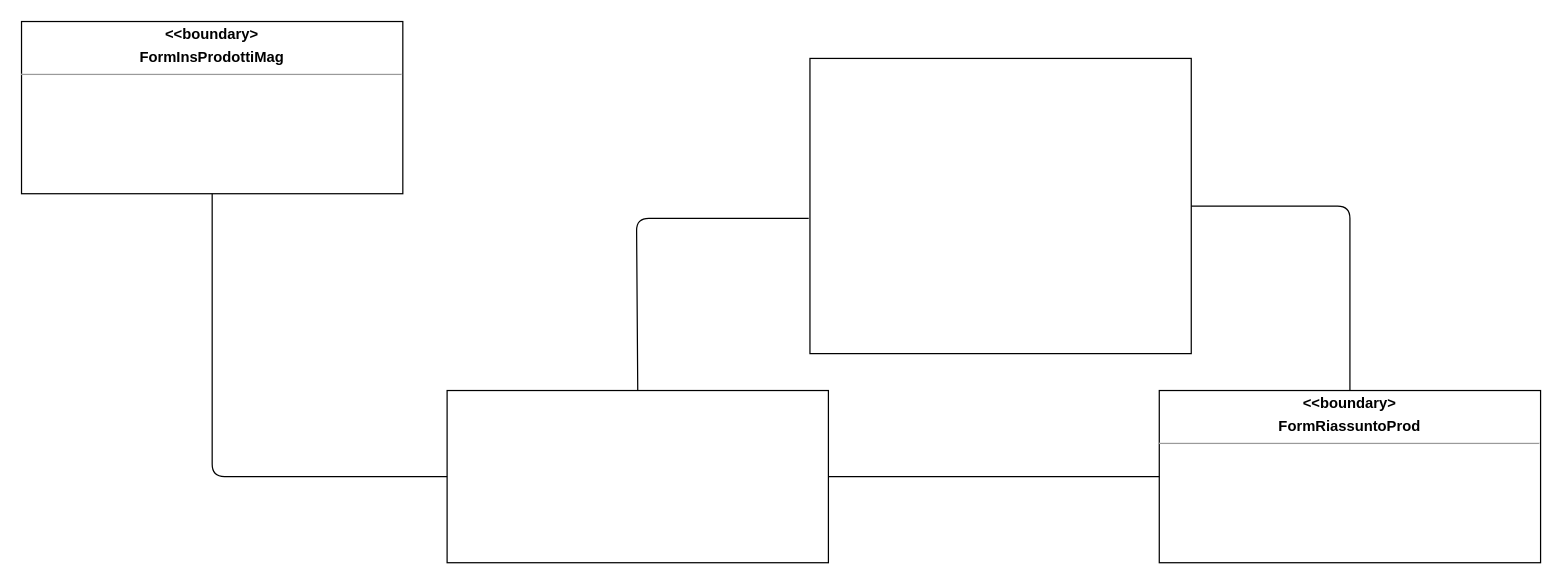
Some shapes in this 1562 by 584 pixel diagram are drawn without their labels. Each missing label, with the centre of its shape:
"<<control> MagazzinoControl" goes at pixel 637 476.
"<<entity> Prodotto" goes at pixel 1000 205.
